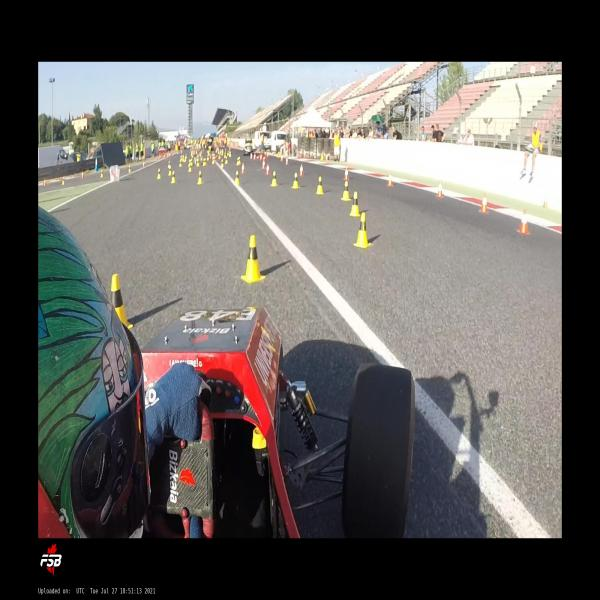orange_cone: (516, 208, 530, 235), (478, 193, 488, 214), (436, 182, 443, 198), (342, 168, 350, 181), (386, 175, 393, 188), (299, 164, 305, 176), (265, 163, 271, 175), (241, 162, 246, 174), (262, 159, 267, 170), (285, 158, 289, 165), (44, 178, 47, 186), (82, 172, 84, 180), (144, 162, 146, 167)
yellow_cone: (240, 235, 266, 283), (111, 273, 133, 329), (353, 212, 372, 248), (349, 191, 360, 216), (341, 179, 351, 200), (316, 176, 324, 195), (291, 172, 300, 188), (270, 170, 278, 186), (542, 196, 548, 210), (234, 170, 240, 184), (197, 170, 203, 184), (171, 170, 176, 183), (157, 168, 162, 179), (167, 166, 172, 176), (188, 163, 192, 172), (100, 169, 104, 178), (203, 158, 207, 166), (236, 157, 240, 165), (167, 160, 171, 168), (128, 165, 132, 173), (228, 150, 232, 158), (320, 152, 324, 160), (196, 160, 200, 167), (62, 178, 66, 185), (224, 156, 228, 163), (221, 160, 224, 168), (179, 159, 182, 167), (212, 157, 214, 164)
